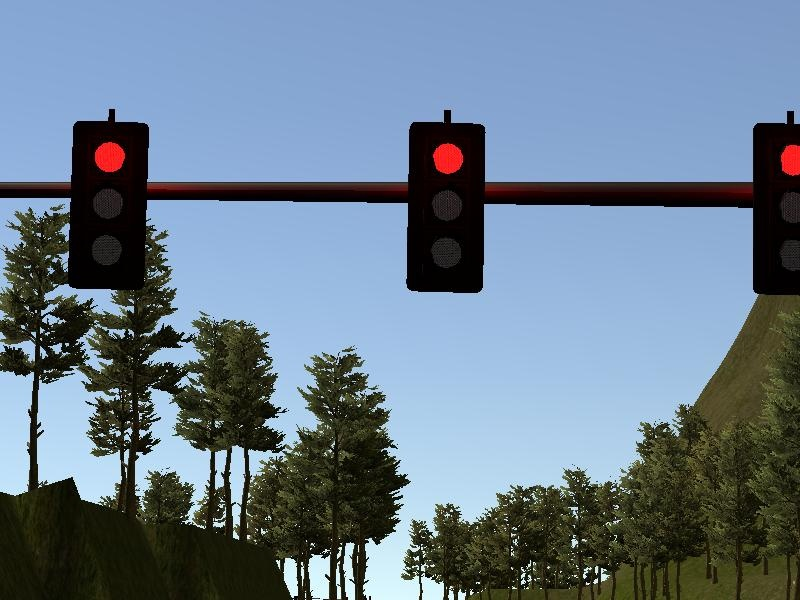red: (401, 121, 491, 294), (64, 116, 152, 292)
